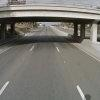Bridge: (2, 2, 95, 40)
